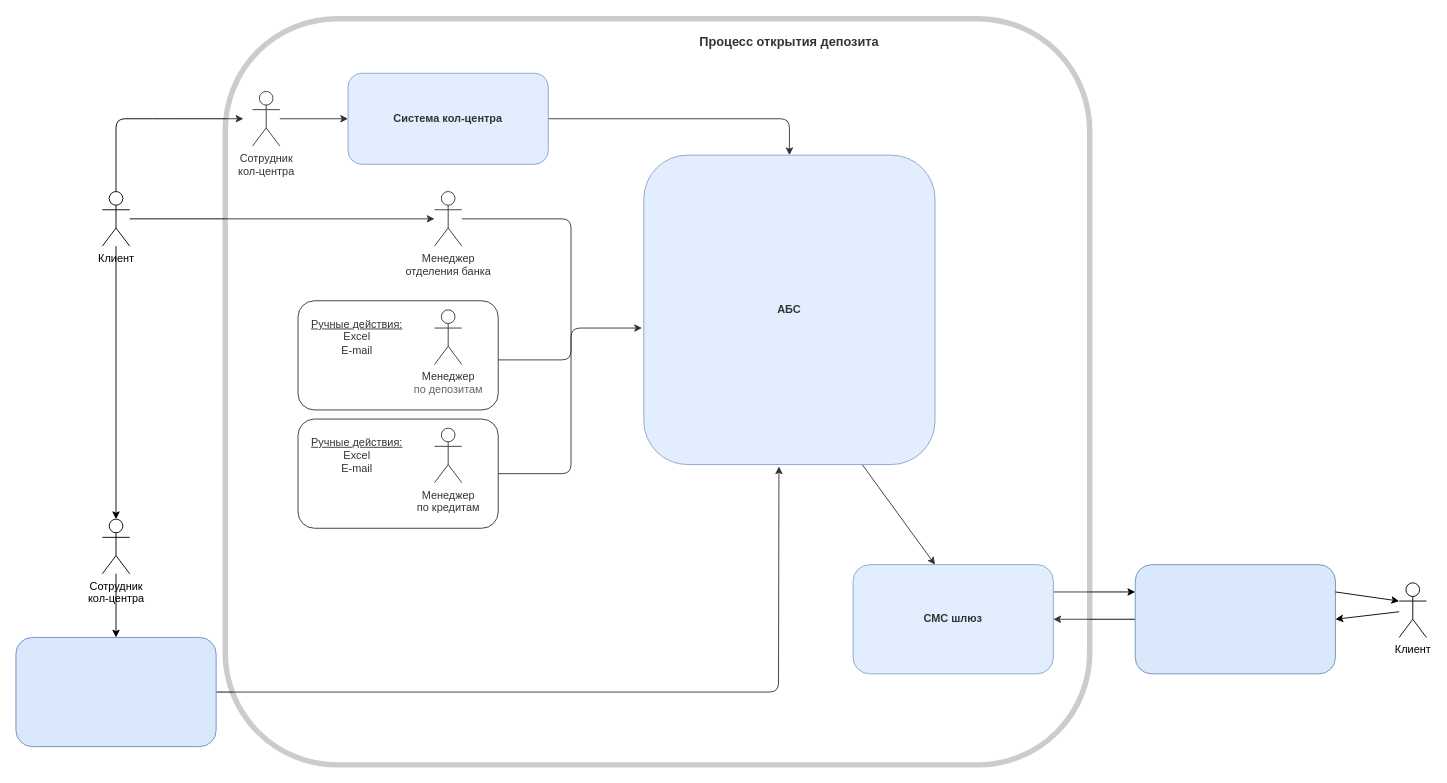
Some shapes in this 1447 by 783 pixel diagram are drawn without their labels. Each missing label, with the box of its shape:
Система партнерского кол-центра: (15, 637, 216, 747)
Телеком оператор: (1134, 564, 1335, 674)
